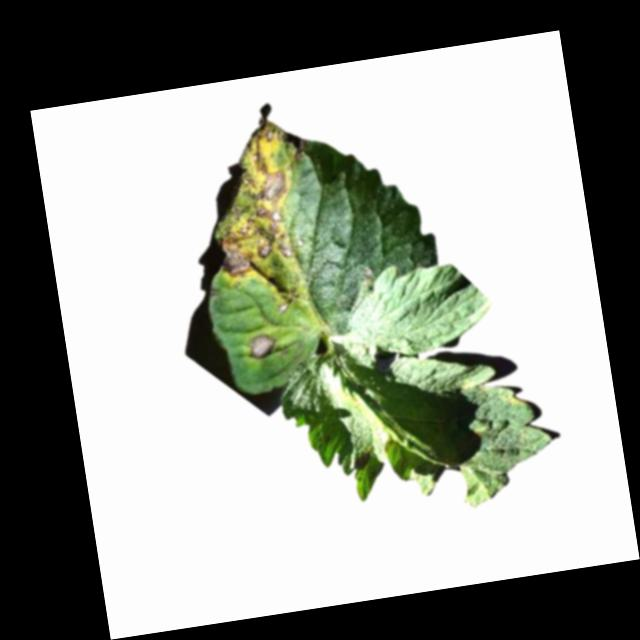Early_blight: (200, 115, 324, 280), (245, 332, 278, 359), (273, 284, 300, 313), (352, 450, 373, 472)
